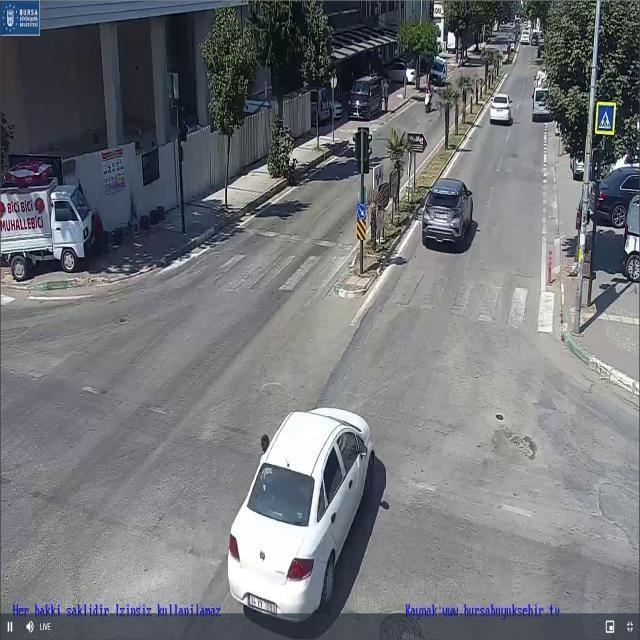Car: (220, 406, 378, 624), (421, 177, 475, 247), (594, 167, 639, 227), (306, 86, 342, 124), (382, 60, 412, 86), (489, 94, 512, 125)
